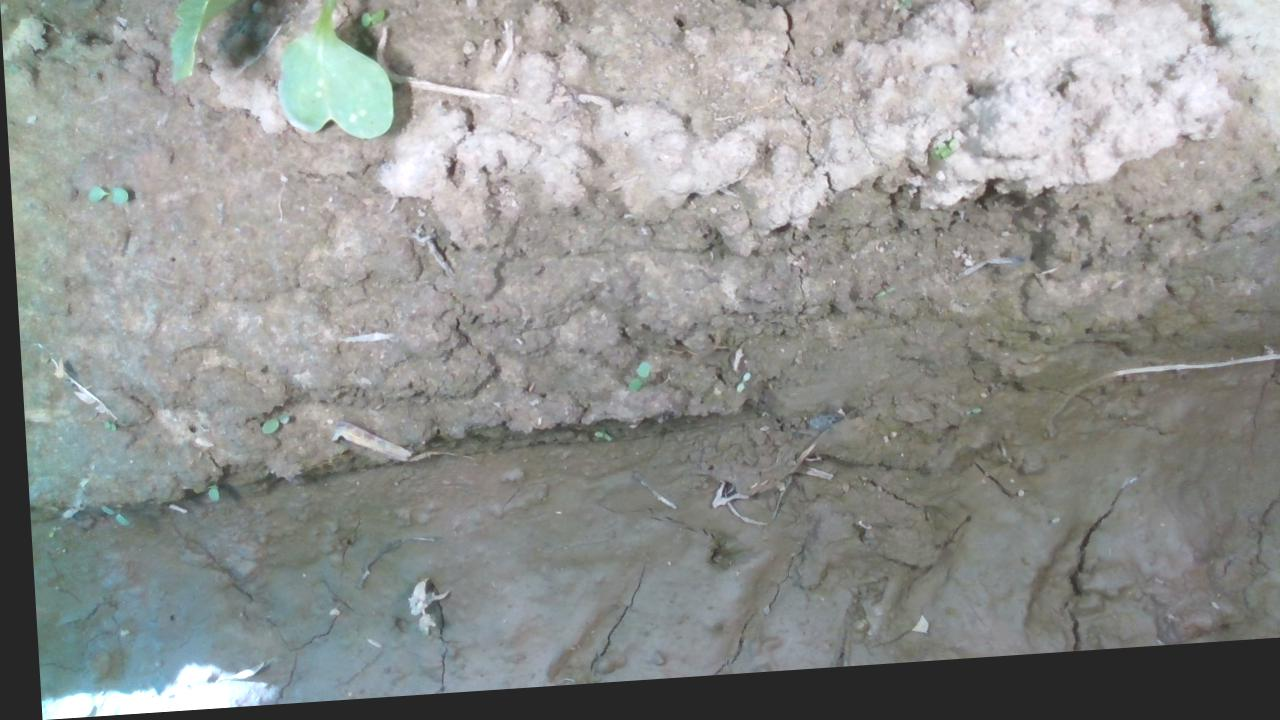weed: (244, 414, 295, 439)
